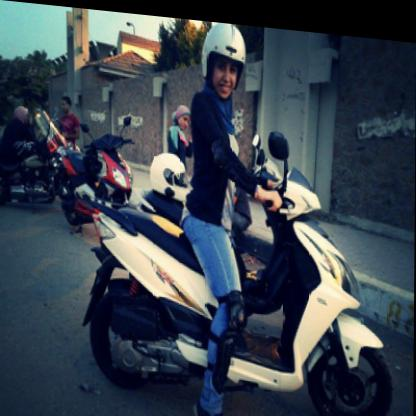With Helmet: (190, 16, 256, 104)
